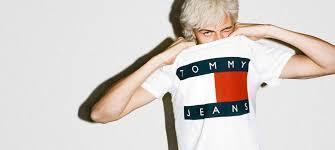Tshirt: (139, 37, 296, 150)
